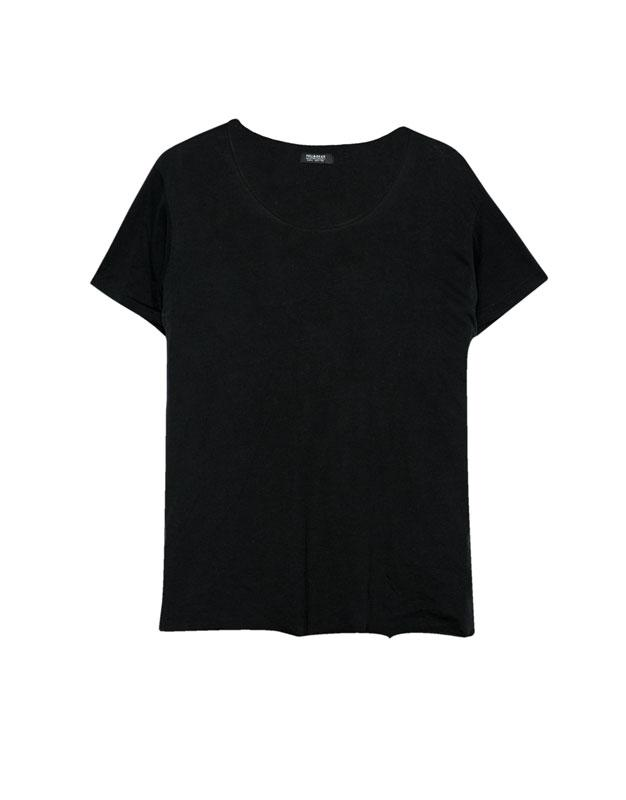teeshirt: (72, 103, 552, 724)
